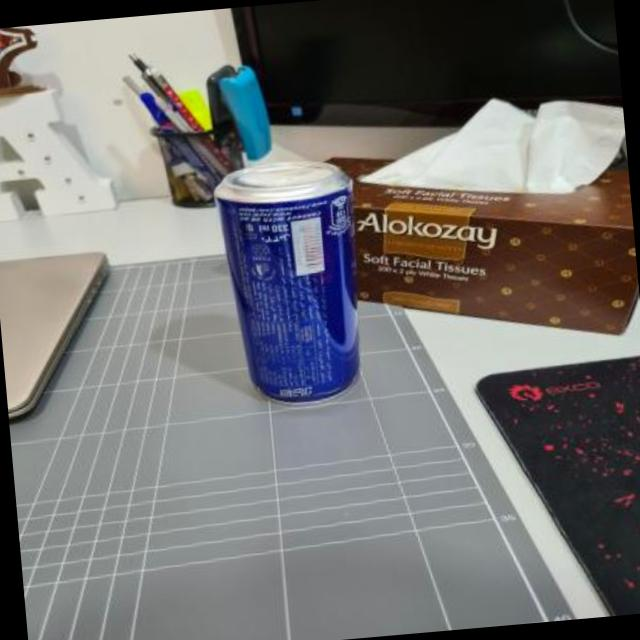cardboard paper: (361, 98, 624, 189)
metal: (213, 158, 357, 399)
